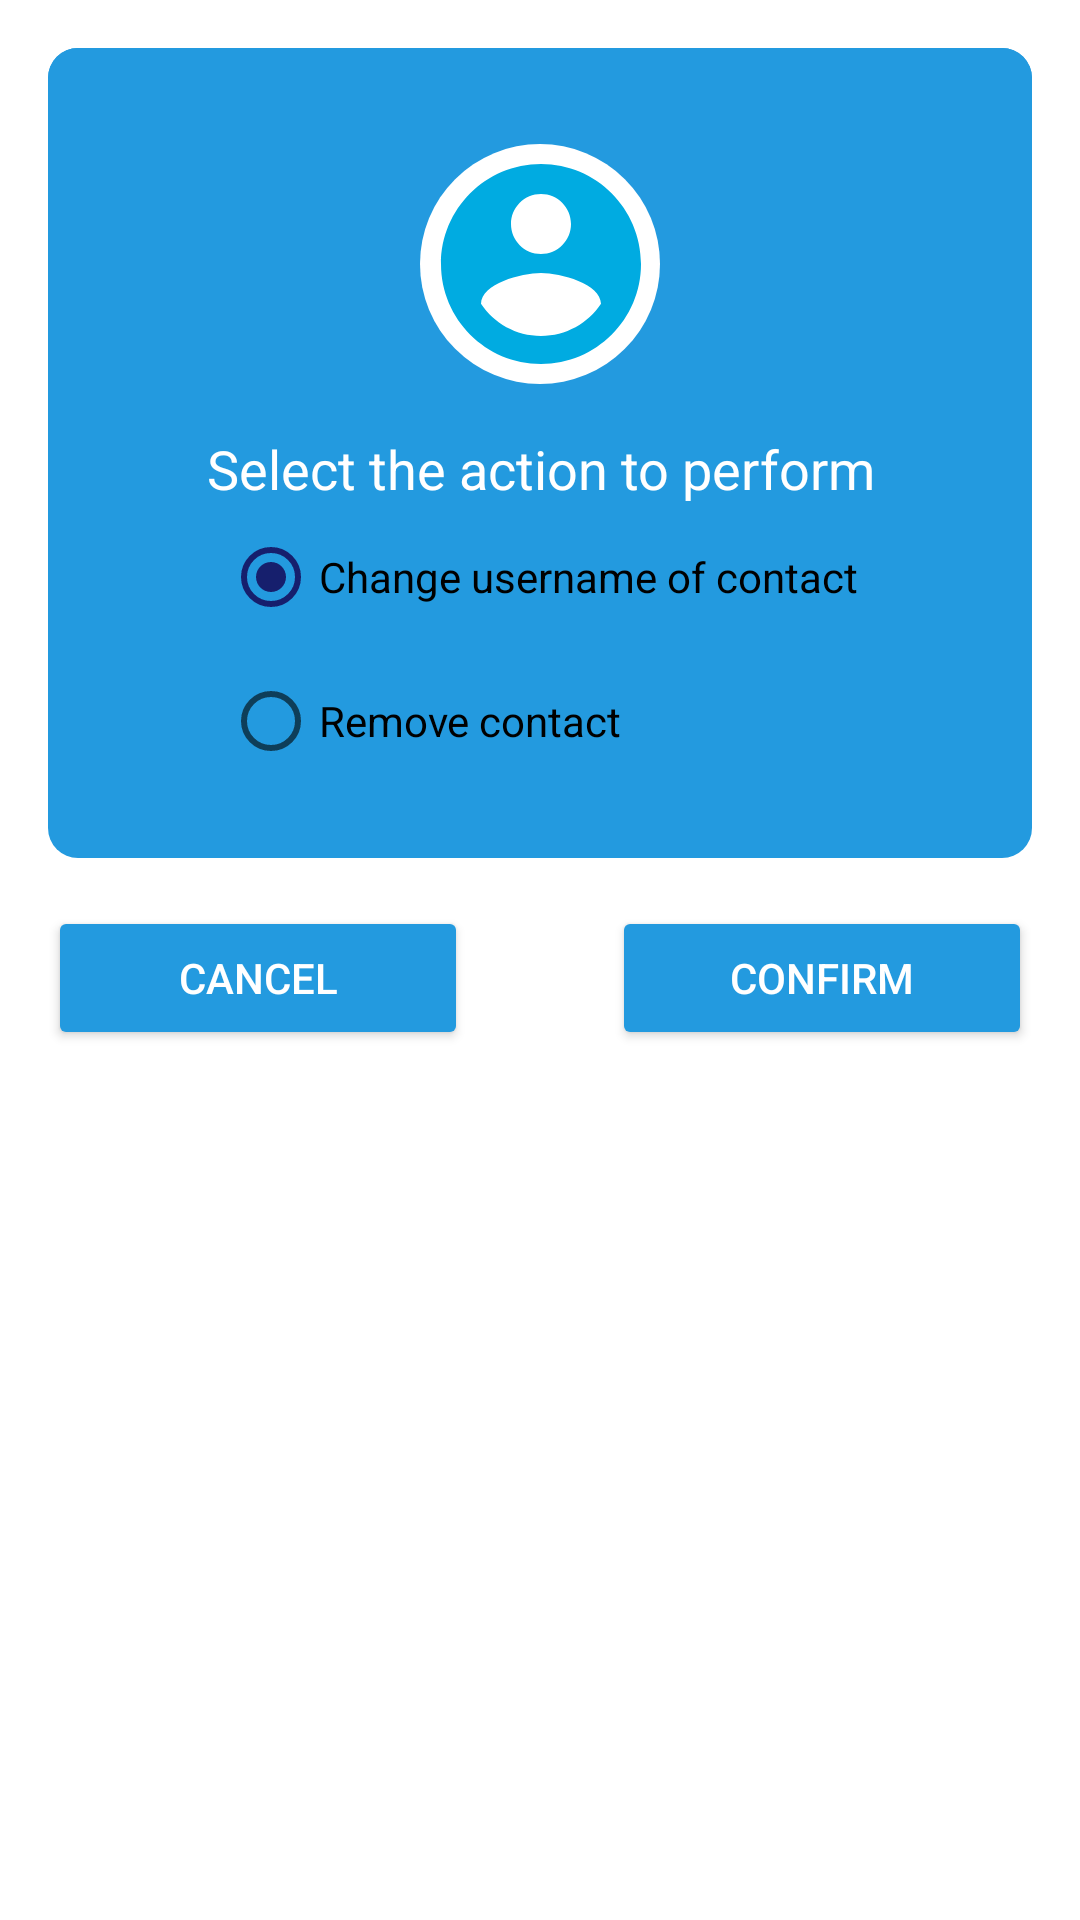

Named icons in this screenshot (1080×1920) and their bounding boxes, (x1, y1, x2, y2):
account: (421, 144, 660, 384)
